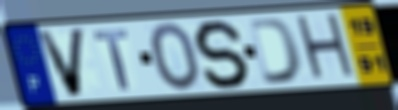D: (246, 16, 304, 86)
H: (293, 11, 360, 85)
O: (147, 21, 203, 94)
S: (192, 18, 253, 90)
T: (91, 27, 132, 92)
V: (33, 26, 89, 100)
